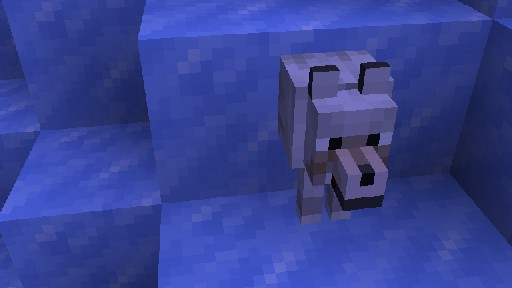wolf: (270, 26, 397, 224)
